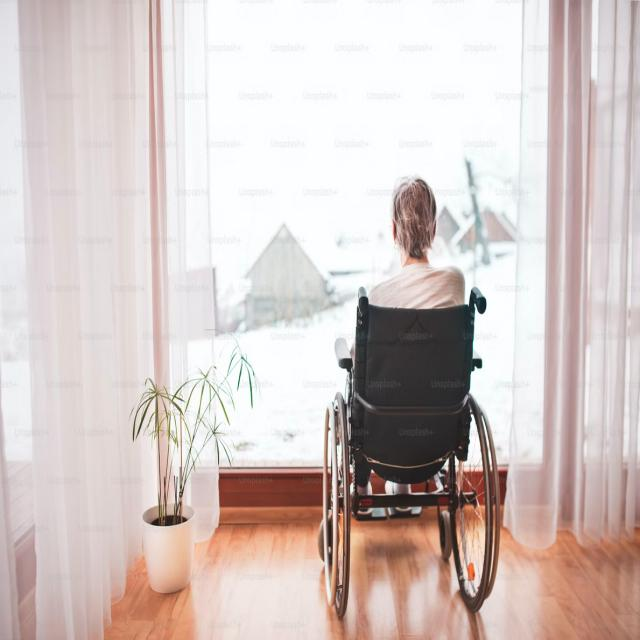wheelchairs: (323, 284, 498, 618)
